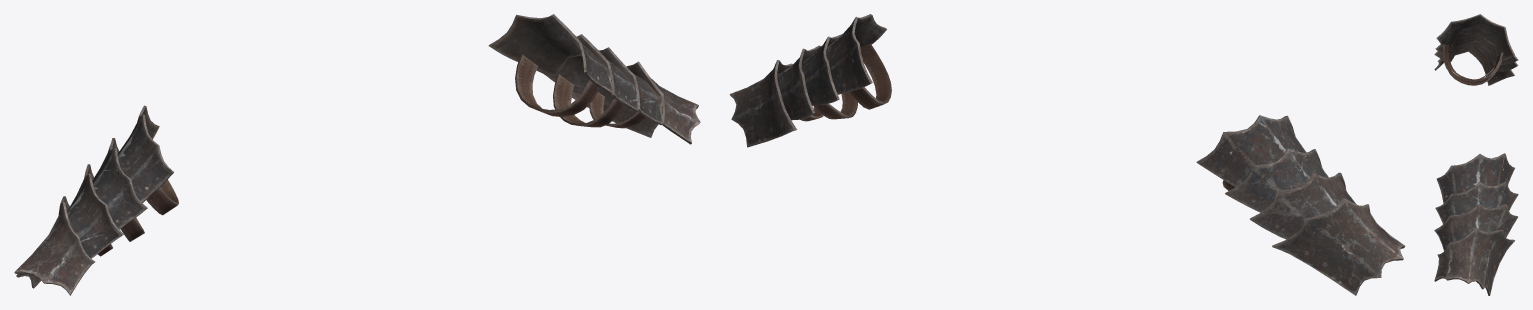
File: sk_dg_uruk_bracer_elite_g.fbx
3 renders of one model, left to right at view 1: azimuth 30°, elevation 25°; view 2: azimuth 150°, elevation 25°; view 3: azimuth 270°, elevation 25°, orthographic. The views are drawn at different scales.
Parts seen in each view (by area): view 1: sk_dg_uruk_bracer_elite_g; view 2: sk_dg_uruk_bracer_elite_g; view 3: sk_dg_uruk_bracer_elite_g.
Part boxes in pixels (box(x1,y1,x2,y2)): sk_dg_uruk_bracer_elite_g: box(14, 14, 700, 295); sk_dg_uruk_bracer_elite_g: box(729, 14, 1405, 295); sk_dg_uruk_bracer_elite_g: box(1434, 14, 1518, 295).
Bounding box in the file's own units: 1.54 × 0.2366 × 0.3306.
1 material, 1 textured.
